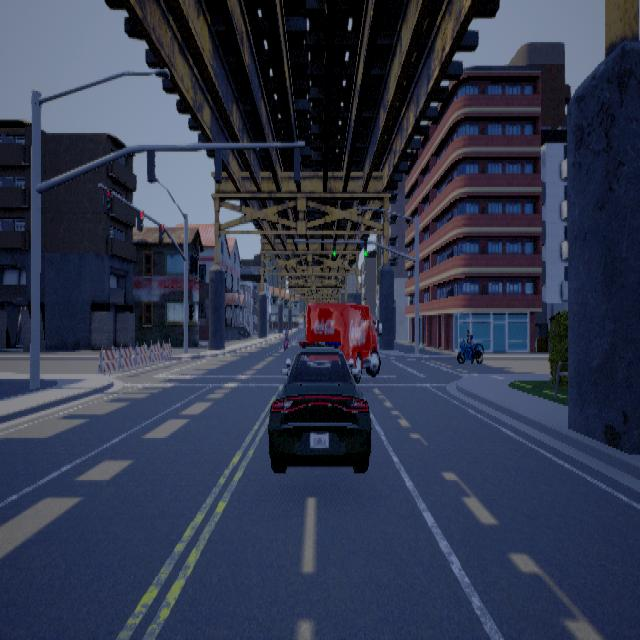green_light: (363, 239, 366, 256), (332, 239, 335, 256)
motobike: (454, 327, 484, 364)
red_light: (102, 187, 111, 212), (136, 209, 143, 231), (158, 222, 164, 241)
vehicle: (267, 350, 370, 472), (301, 298, 386, 386)
